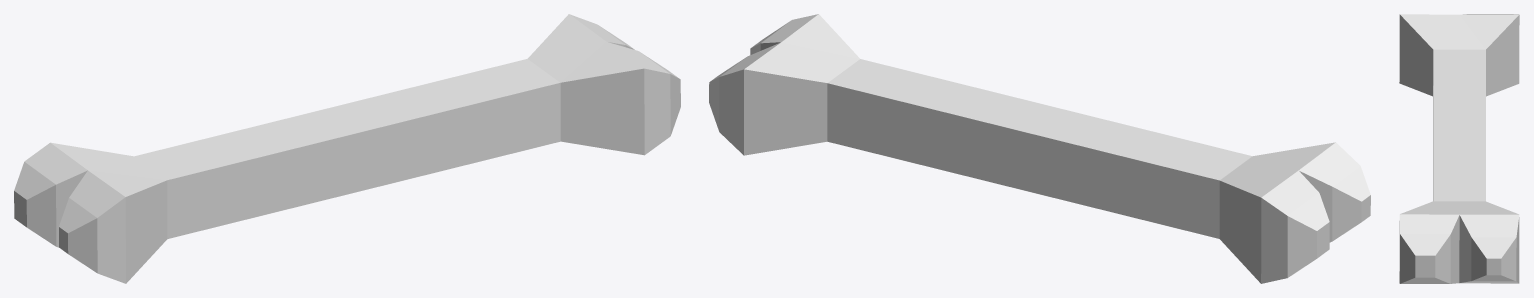
File: Ship_002.glb
3 views of the same model, side by side, from view 1: azimuth 30°, elevation 25°; view 2: azimuth 150°, elevation 25°; view 3: azimuth 270°, elevation 25° (orthographic). The views are drawn at different scales.
Parts seen in each view (by area): view 1: Ship_002; view 2: Ship_002; view 3: Ship_002.
Boxes of the visible parts, x1,y1,x2,y2 form: Ship_002: (14,14,680,283); Ship_002: (709,14,1370,283); Ship_002: (1399,14,1519,283).
Bounding box in the file's own units: 0.3682 × 0.0514 × 0.0786.
1 material, 1 textured.
